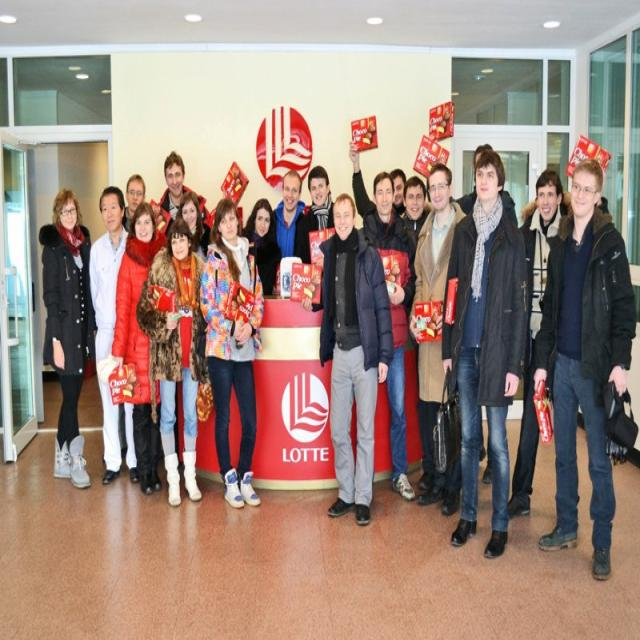body: (530, 150, 639, 584), (430, 143, 532, 564), (300, 191, 396, 529), (504, 166, 571, 522), (197, 192, 267, 514), (455, 143, 520, 489), (407, 161, 470, 517), (134, 215, 207, 510), (362, 169, 418, 503), (39, 186, 97, 491), (110, 200, 169, 496), (88, 184, 140, 486), (346, 112, 408, 218), (156, 148, 214, 229), (240, 197, 278, 297), (273, 168, 306, 258), (303, 163, 338, 246), (174, 188, 212, 263), (399, 174, 433, 247), (424, 158, 460, 208), (121, 173, 147, 234)
